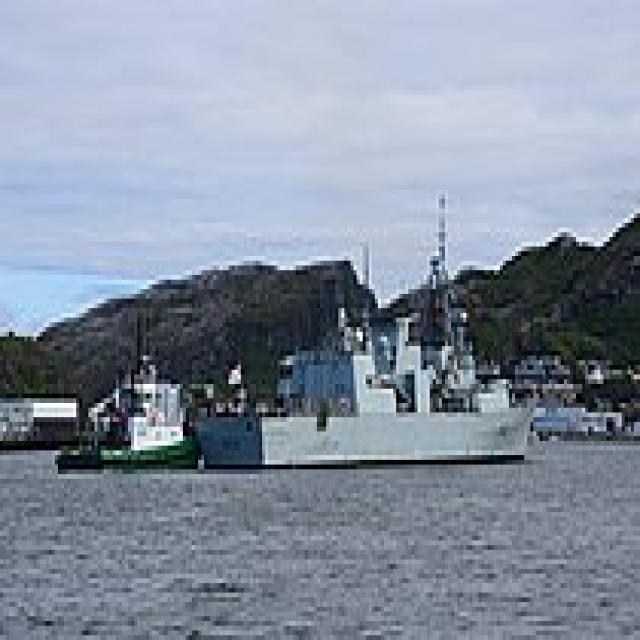Warship: (186, 294, 539, 465)
